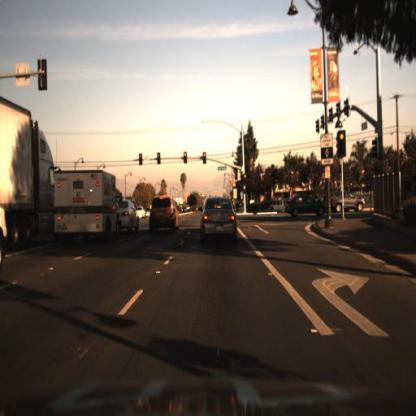car: (48, 162, 121, 250), (196, 192, 240, 251), (142, 194, 188, 238), (282, 189, 329, 222), (285, 193, 330, 220), (119, 199, 142, 234), (265, 195, 285, 218), (270, 198, 293, 215)
trafficLight-Red: (338, 133, 348, 148), (203, 148, 211, 164), (137, 150, 145, 164), (183, 150, 190, 163), (138, 153, 144, 167), (202, 152, 209, 164), (156, 151, 162, 163), (156, 152, 162, 164), (183, 151, 189, 163), (243, 174, 248, 185)
truck: (1, 96, 56, 242)
